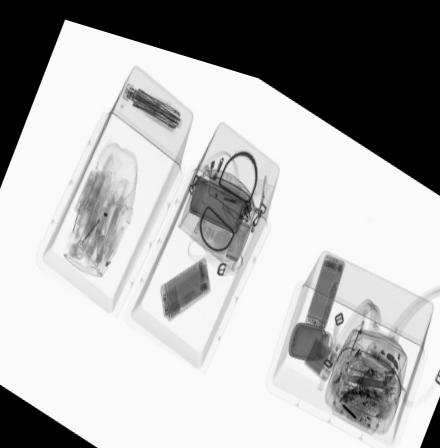Powerbank: (301, 317, 339, 366)
